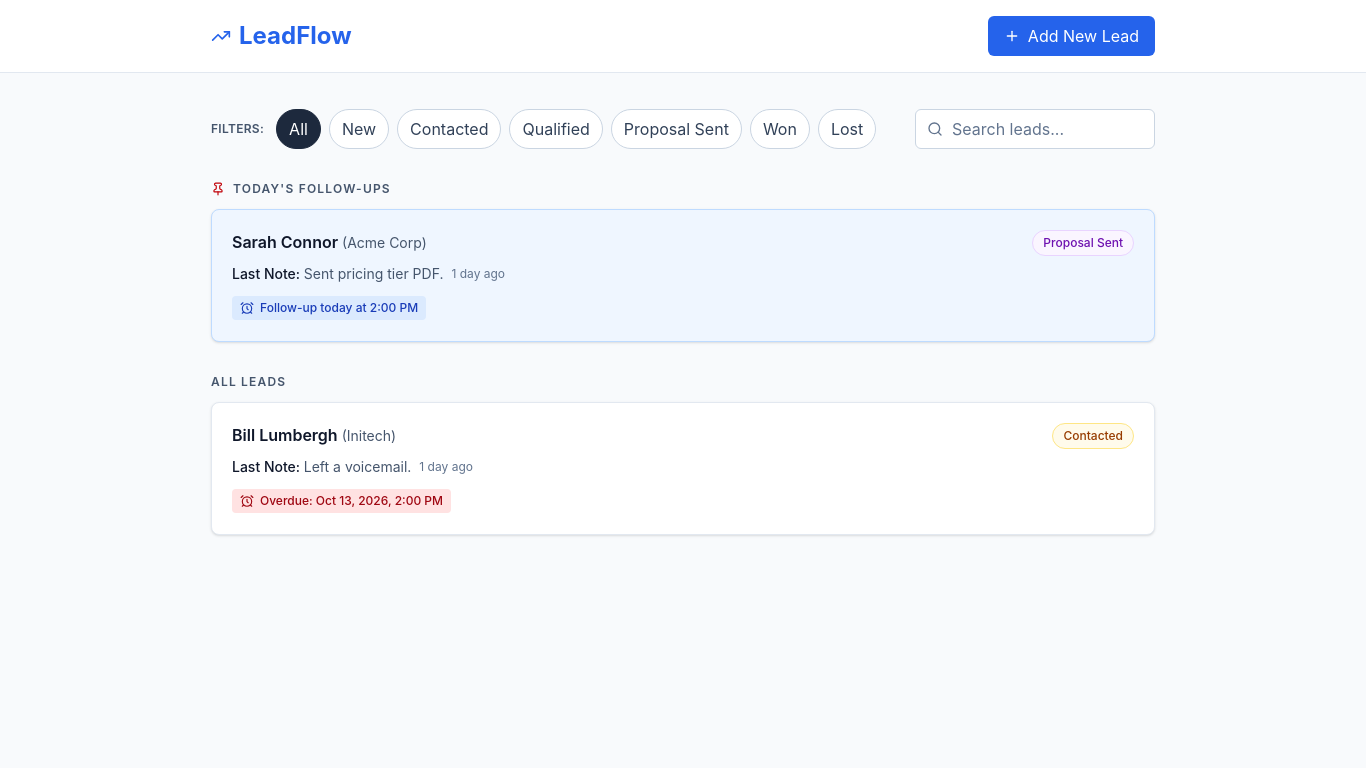
Scenario: adds a lead and shows it immediately in the list
The width and height of the screenshot is (1366, 768).
Expected: the button with aria-label "View Sarah Connor" is shown, [211,209,1155,342]
Step 1. Click the button "Add New Lead" → (1071, 36), box [988,16,1155,56]
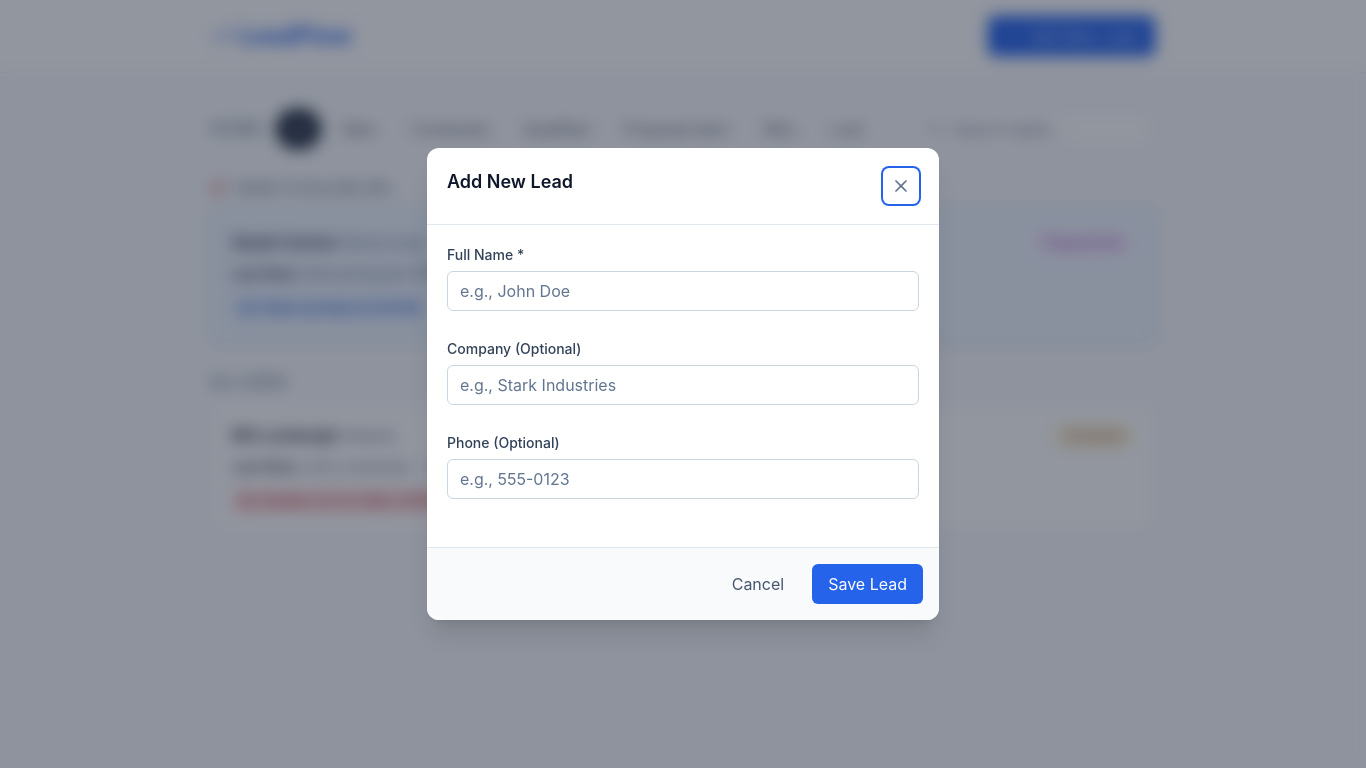
Step 2. Type "Diana Prince" into the field labelled "Full Name *" → (683, 291), box [447,271,919,311]
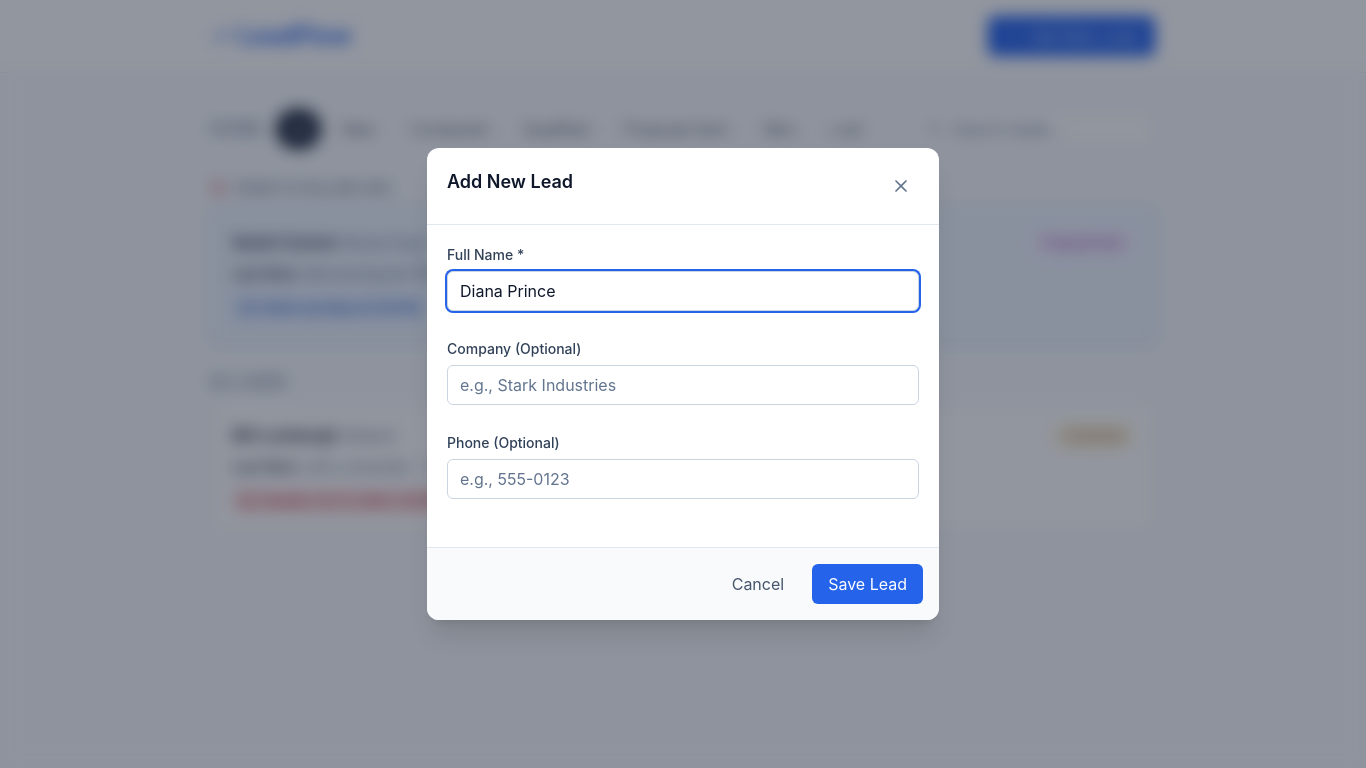
Step 3. Click the button "Save Lead" → (868, 584), box [812,564,923,604]
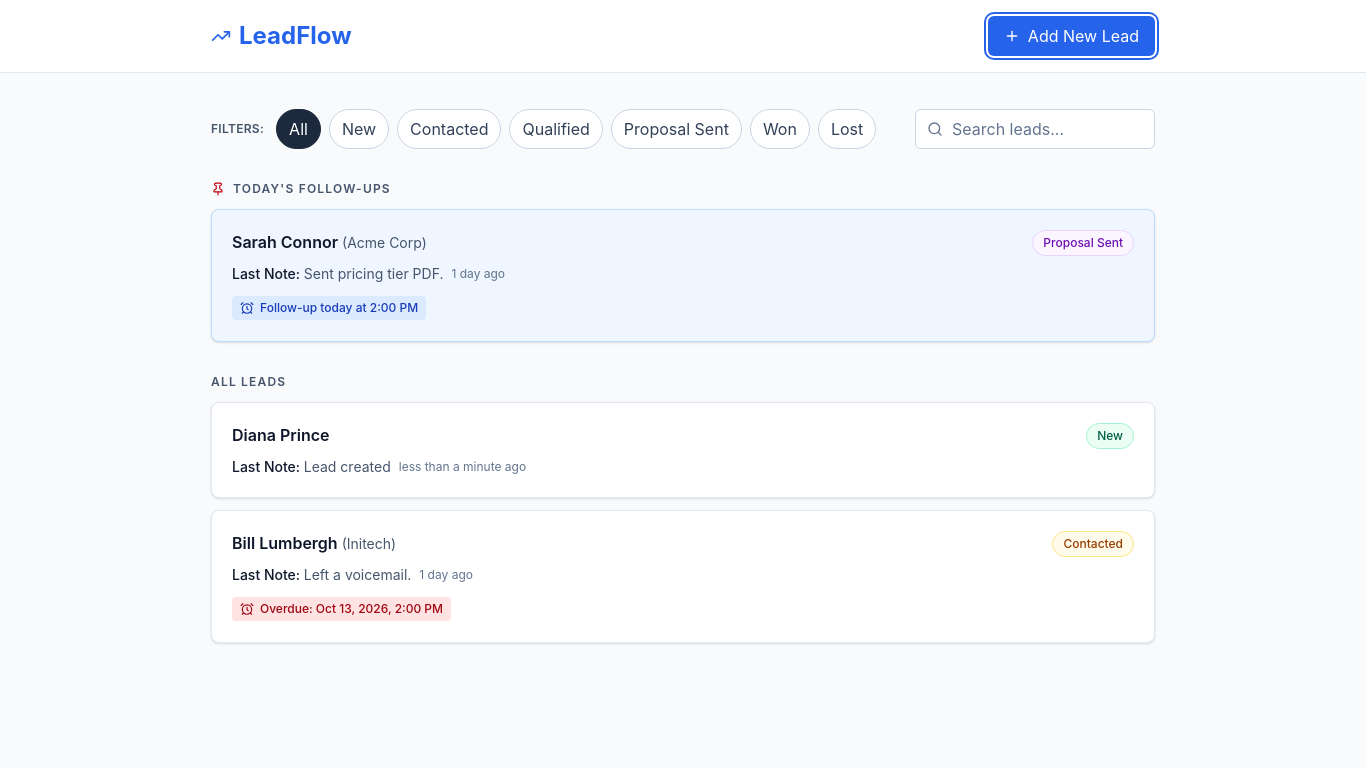
Result: the button with aria-label "View Diana Prince" is shown at [211,402,1155,498]
Result: the dialog is gone
